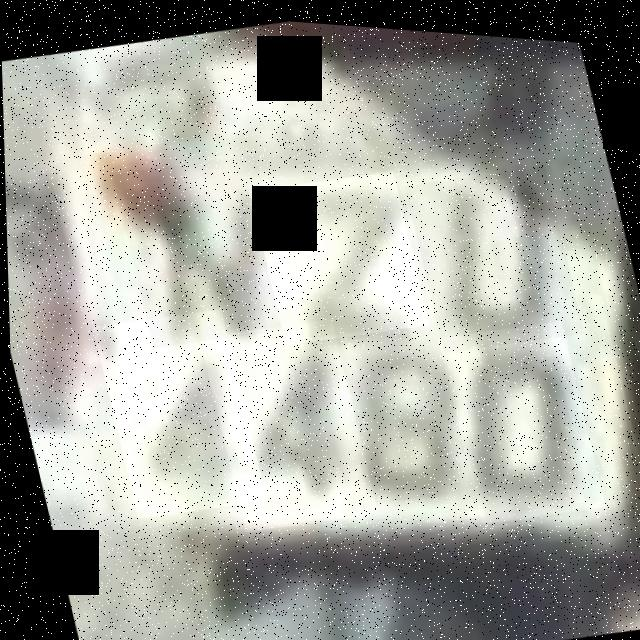0: (435, 305, 603, 523)
4: (196, 306, 375, 536), (90, 298, 264, 524)
8: (317, 303, 479, 525)
N: (111, 141, 295, 354)
U: (402, 149, 583, 354)
Z: (247, 156, 428, 348)
